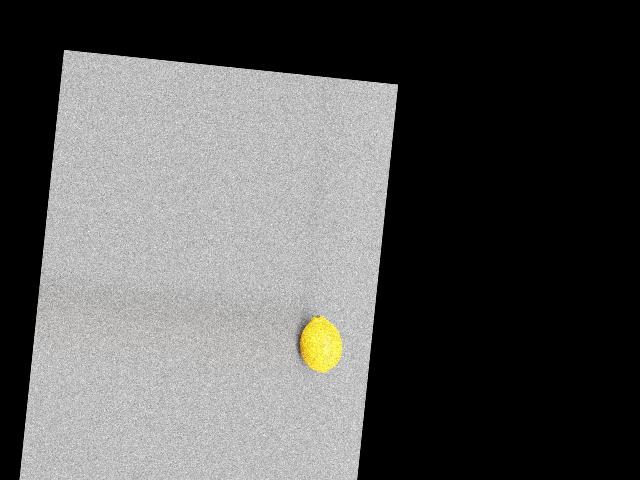lemon: (297, 313, 348, 376)
